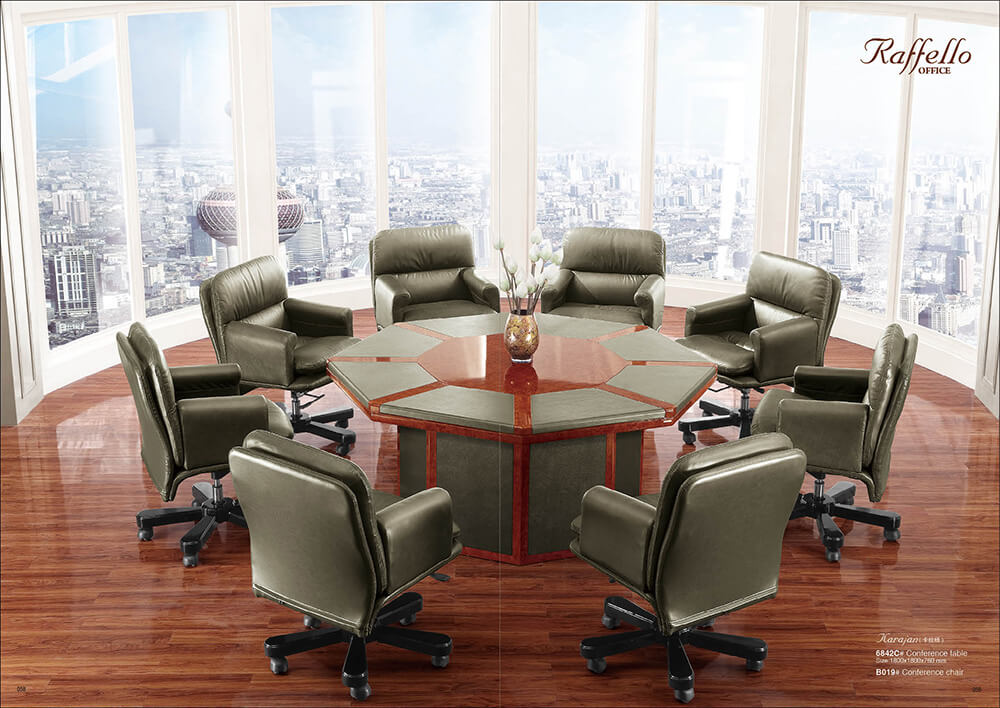conference_table: (326, 313, 717, 567)
